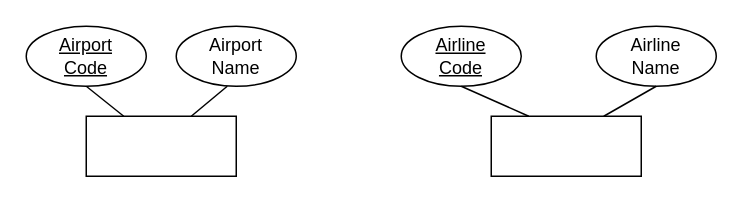
This 743x203 diagram has some shape labels left out. The shapes that lost their labels are listed below. From the top down, each one's centre as x and y in pixels, then its label:
(x=160, y=145): Airinfo5 AirportCodes
(x=565, y=145): Airinfo5 AirlineCodes
